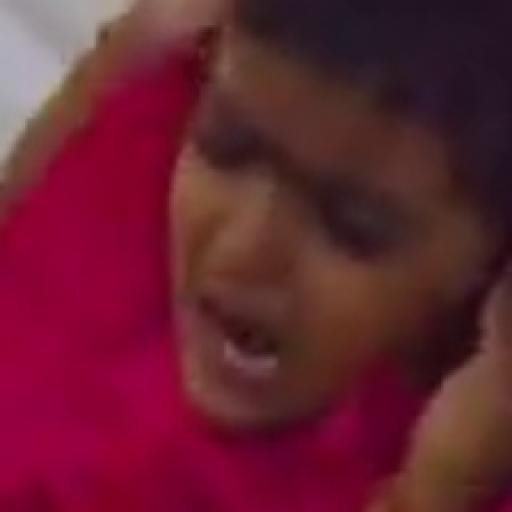Autism: (152, 8, 512, 453)
